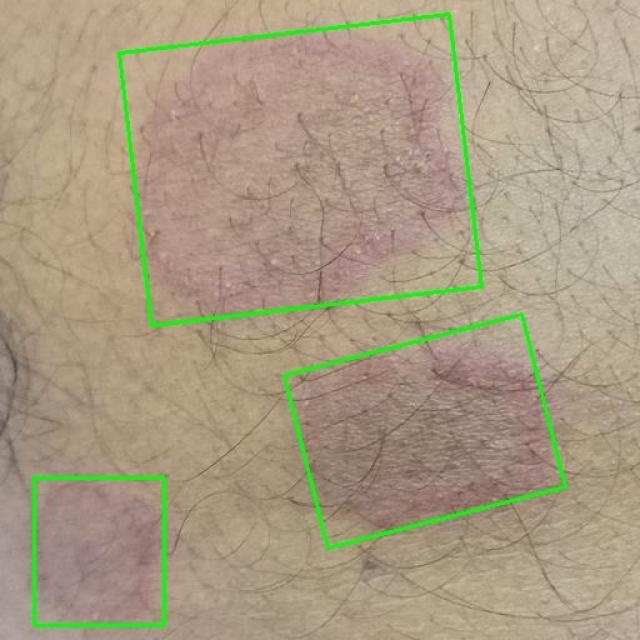Eczema: (119, 14, 482, 326), (284, 314, 566, 548), (34, 478, 164, 625)
